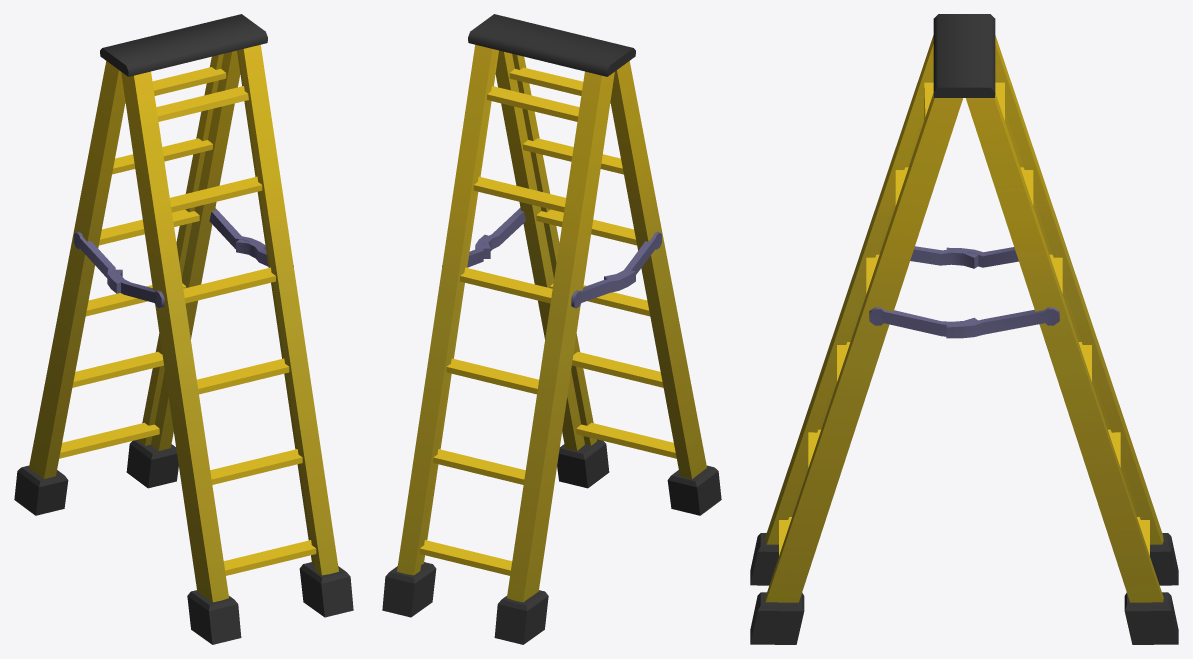
Rendered from Ladder_1_7.fbx.
3 renders of one model, left to right at view 1: azimuth 30°, elevation 25°; view 2: azimuth 150°, elevation 25°; view 3: azimuth 270°, elevation 25°, orthographic. The views are drawn at different scales.
Parts seen in each view (by area): view 1: Ladder_1_7; view 2: Ladder_1_7; view 3: Ladder_1_7.
Boxes of the visible parts, left/top/right/bottom form: Ladder_1_7: left=14, top=14, right=353, bottom=644; Ladder_1_7: left=382, top=14, right=721, bottom=644; Ladder_1_7: left=750, top=14, right=1178, bottom=644.
Size of the model in its own units: 55.92 by 182 by 127.
